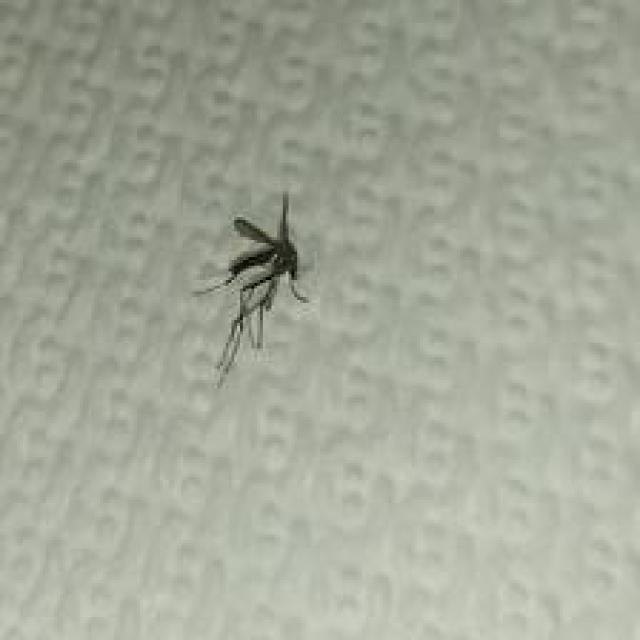Aedes albopictus: (192, 188, 312, 388)
